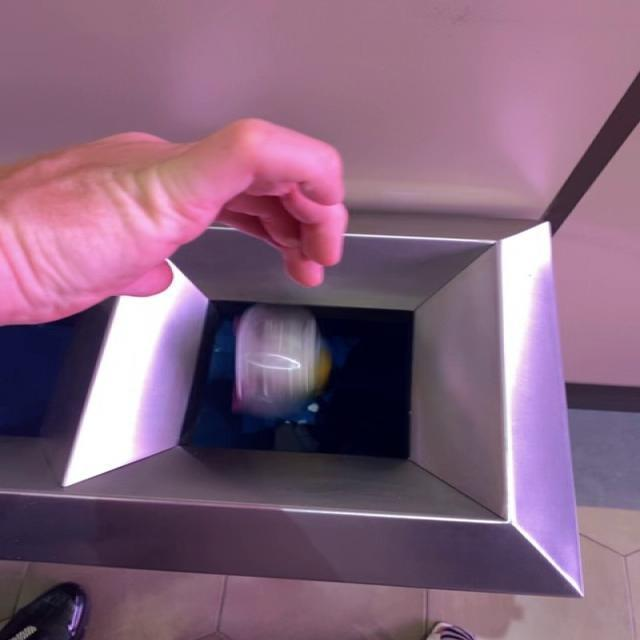Bin: (1, 215, 583, 596)
Metal: (232, 304, 331, 419)
